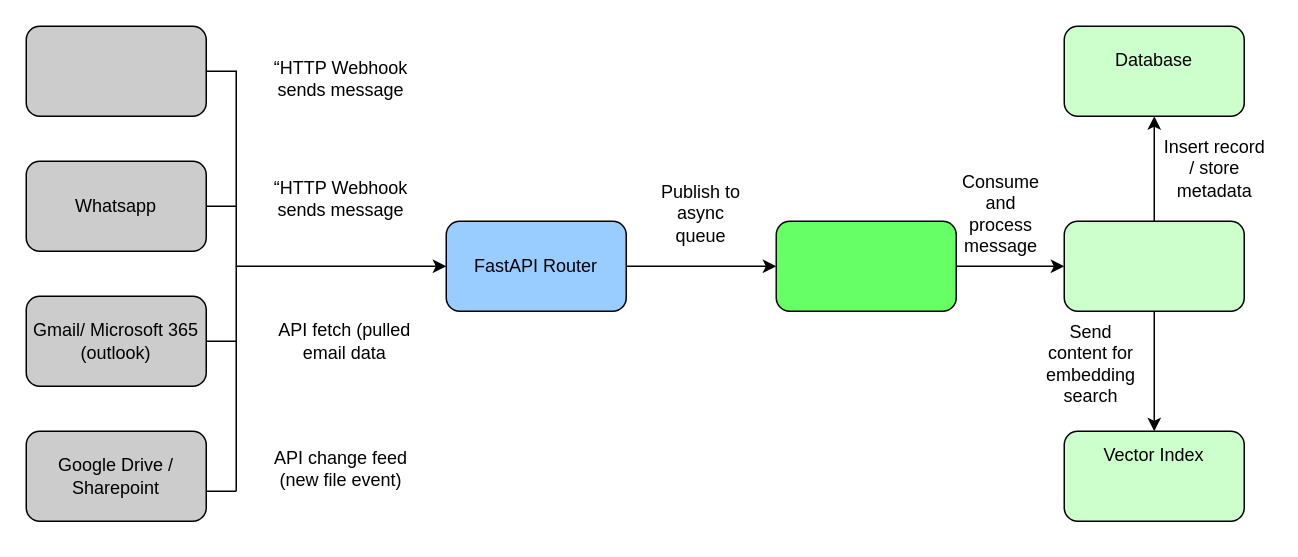
Image size: 1298x557. Some labels were removed from this diagram. Each missing label, with the centre of its shape:
"Processor" goes at (x=1153, y=265).
"Queue (RabbitMQ or Redis Stream)" goes at (x=865, y=265).
"Telegram" goes at (x=115, y=70).
